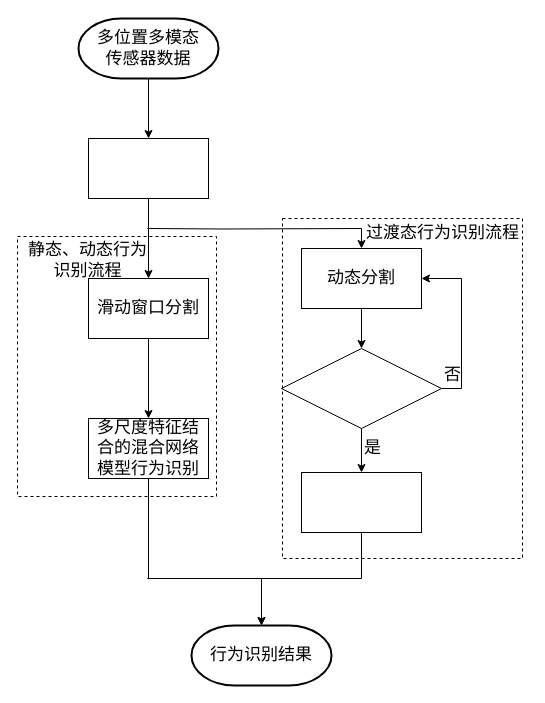
Some shapes in this 545 by 703 pixel diagram are drawn without their labels. Here are the shapes that lost their labels. From the top down, the box of each, then its label:
(88, 138, 208, 198): 数据预处理
(280, 348, 442, 428): 是否为过渡行为
(300, 472, 422, 532): 过渡行为识别
